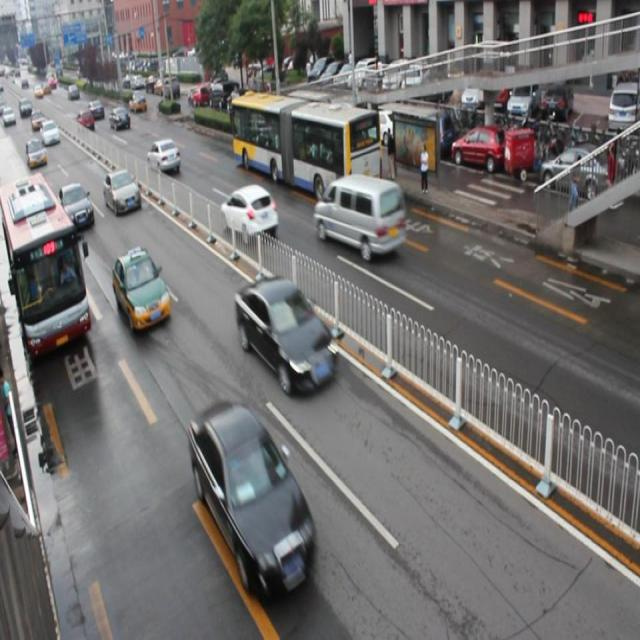car: (188, 400, 316, 592), (235, 274, 335, 396), (112, 247, 170, 333), (220, 185, 278, 242), (102, 169, 140, 215), (58, 182, 95, 229), (146, 140, 181, 175)
truck: (314, 174, 406, 260)
van: (228, 88, 383, 202), (0, 176, 90, 354)
